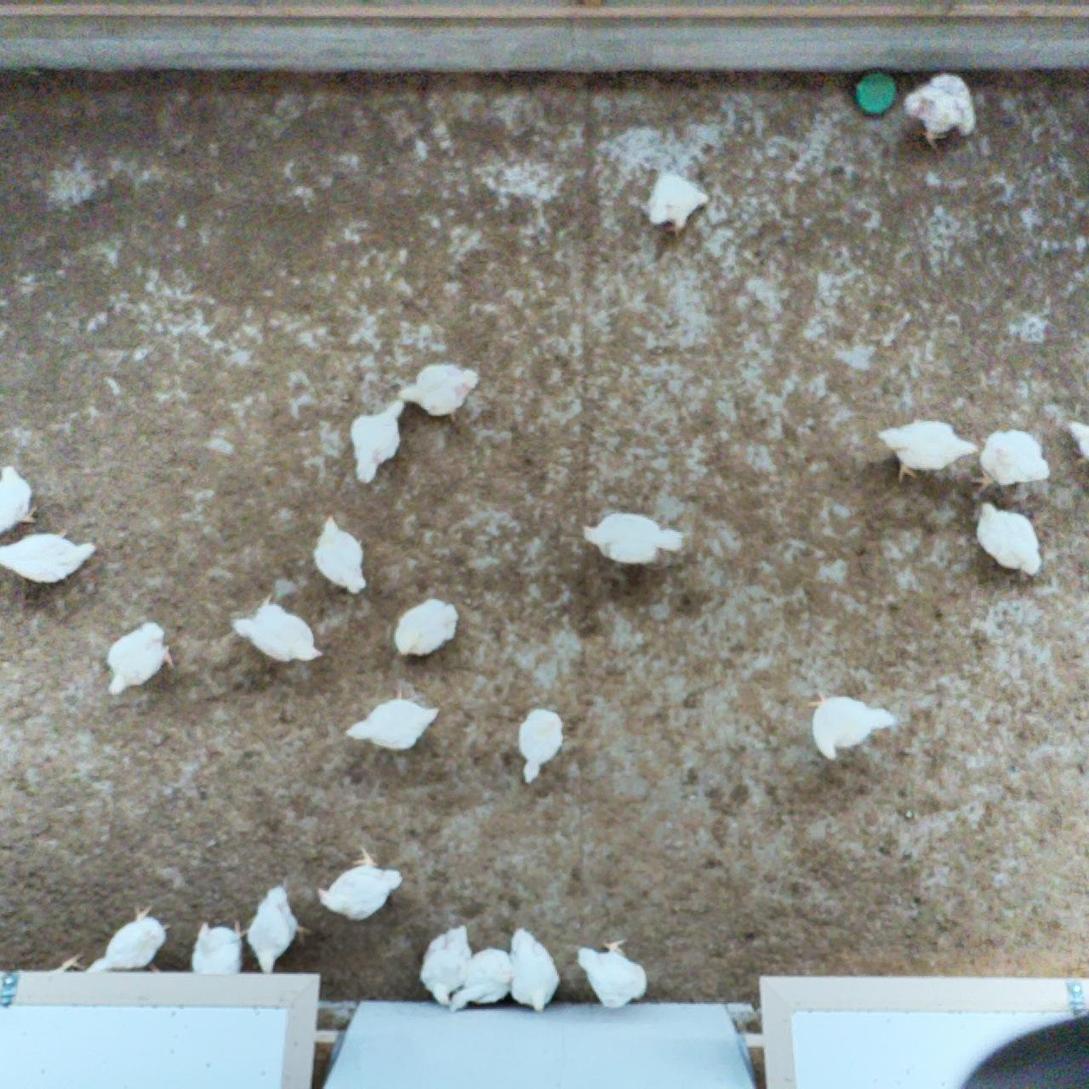chicken: (314, 841, 406, 924), (230, 592, 328, 669), (805, 686, 900, 765), (574, 505, 686, 572), (901, 64, 980, 158), (875, 416, 979, 485), (340, 683, 444, 752), (972, 497, 1050, 584), (86, 901, 177, 974), (242, 882, 311, 977), (103, 617, 182, 699), (966, 422, 1052, 496), (0, 523, 100, 586), (393, 358, 484, 426), (575, 931, 652, 1011), (347, 394, 410, 489), (639, 166, 714, 241), (416, 923, 477, 1009), (310, 507, 370, 594), (506, 923, 563, 1014), (391, 593, 462, 663), (448, 944, 515, 1017), (515, 701, 567, 786), (186, 917, 249, 977), (0, 462, 41, 537)
